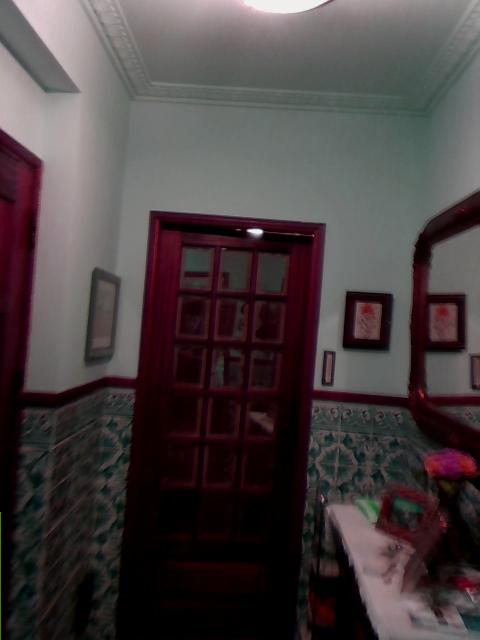closed_door: (115, 209, 323, 638)
